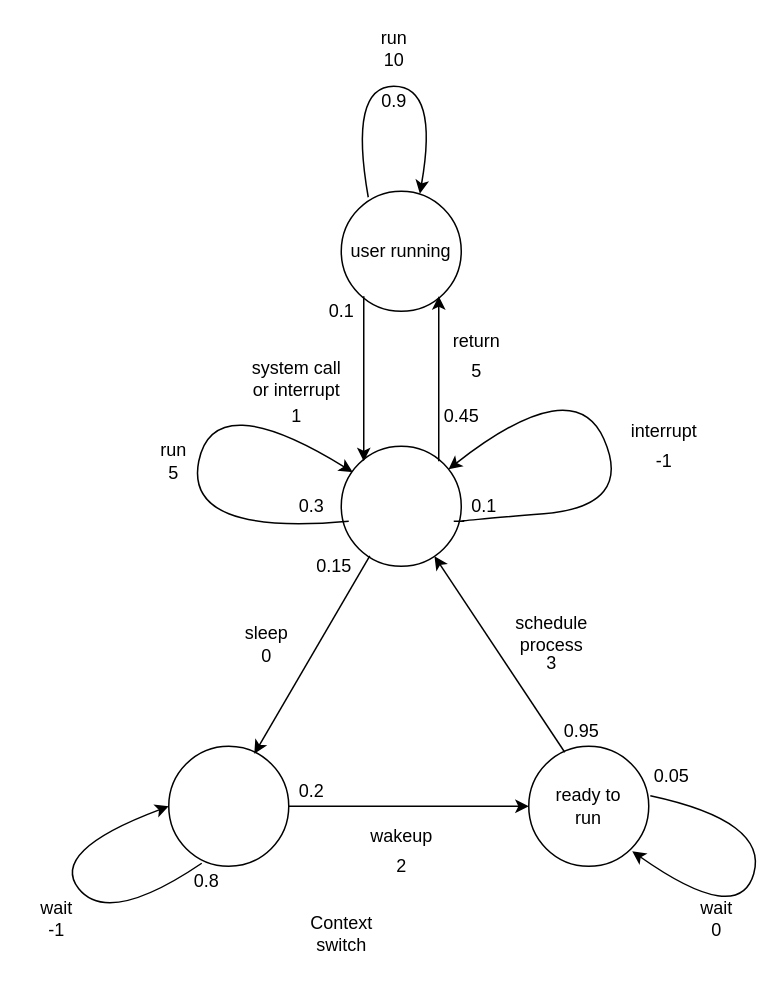
Some shapes in this 782 by 981 pixel diagram are drawn without their labels. The shapes that lost their labels are listed below. From the top down, each one's centre as x and y in pixels, then its label:
the point at 400,505: kernel running
the point at 228,805: asleep
